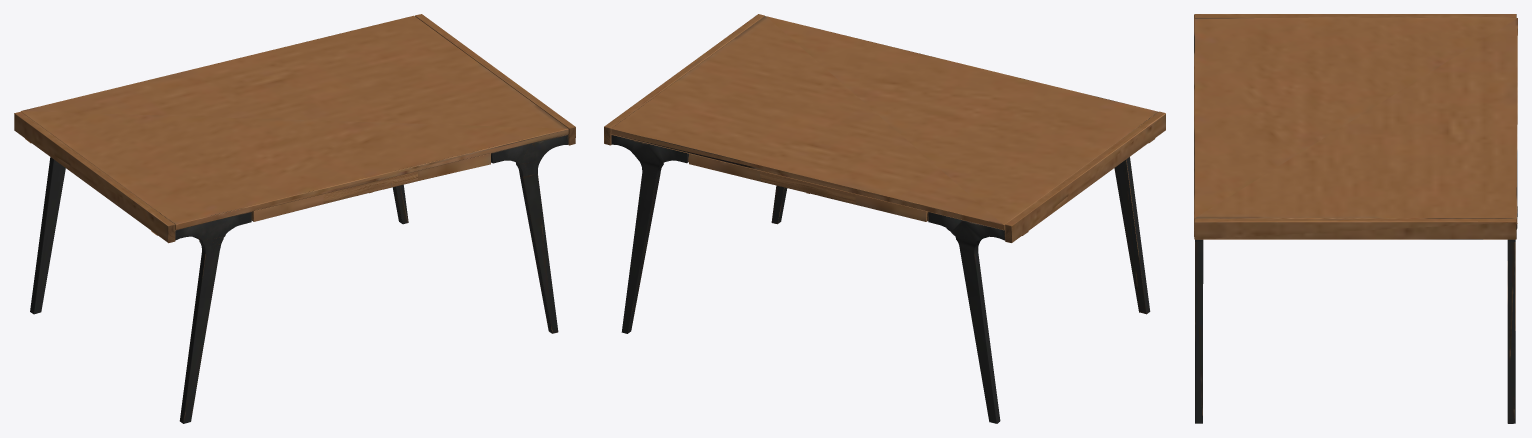
Rendered from dining table.glb.
3 views of the same model, side by side, from view 1: azimuth 30°, elevation 25°; view 2: azimuth 150°, elevation 25°; view 3: azimuth 270°, elevation 25° (orthographic). The views are drawn at different scales.
Size of the model in its own units: 0.9497 by 0.4497 by 0.625.
Materials: 1 (1 with a texture image).
